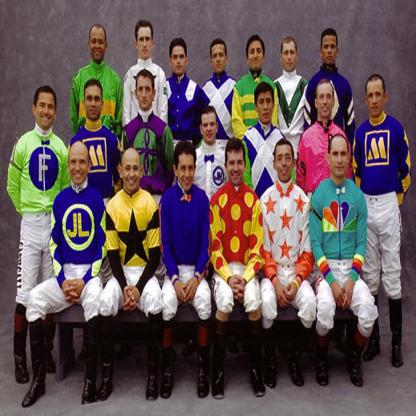face: (69, 147, 89, 185), (36, 92, 56, 128), (178, 153, 196, 191), (330, 141, 349, 177), (123, 156, 141, 193), (276, 145, 294, 181), (367, 82, 385, 117), (85, 88, 103, 121), (228, 151, 245, 185), (138, 76, 154, 110), (258, 90, 274, 124), (91, 29, 107, 61), (318, 85, 334, 117), (202, 113, 217, 143), (323, 35, 338, 65), (138, 27, 152, 57), (250, 41, 264, 71), (283, 43, 297, 72), (172, 47, 186, 75), (213, 45, 226, 73)
